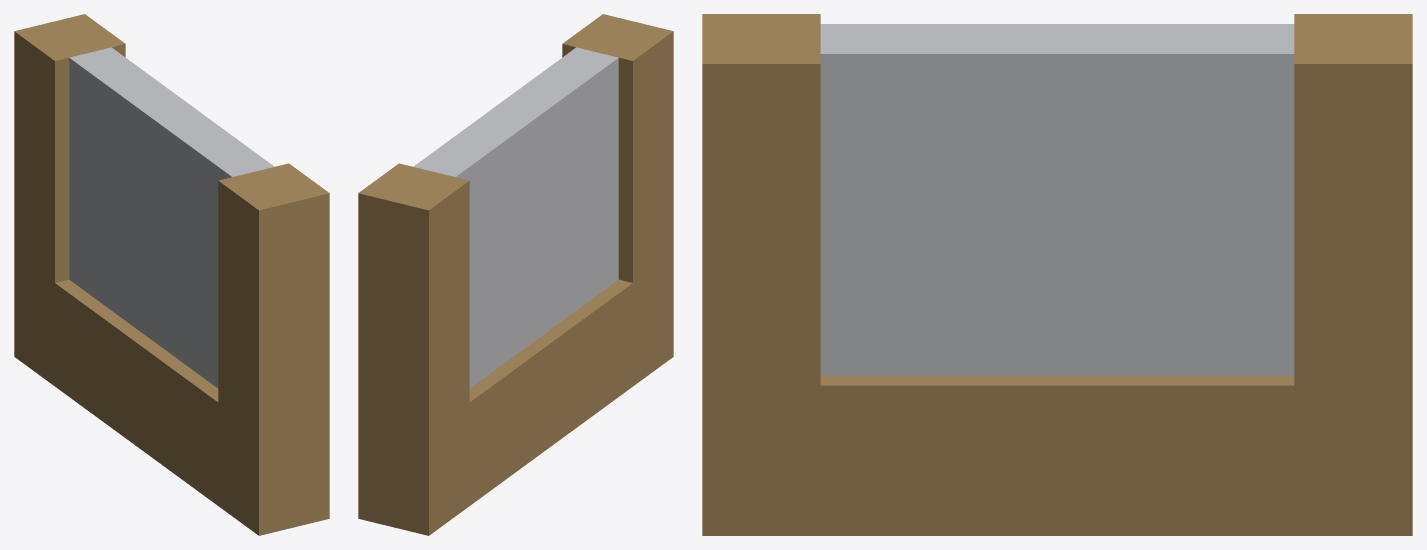
The model's file is Wood_Border_Wall_01.obj.
3 renders of one model, left to right at view 1: azimuth 30°, elevation 25°; view 2: azimuth 150°, elevation 25°; view 3: azimuth 270°, elevation 25°, orthographic. The views are drawn at different scales.
Parts seen in each view (by area): view 1: Mesh1_Wood_Border_Wall_Model; view 2: Mesh1_Wood_Border_Wall_Model; view 3: Mesh1_Wood_Border_Wall_Model.
Part boxes in pixels (left/top/right/bottom): Mesh1_Wood_Border_Wall_Model: left=14, top=14, right=329, bottom=535; Mesh1_Wood_Border_Wall_Model: left=358, top=14, right=673, bottom=535; Mesh1_Wood_Border_Wall_Model: left=702, top=14, right=1412, bottom=535.
Size of the model in its own units: 0.5 by 2.2 by 3.
